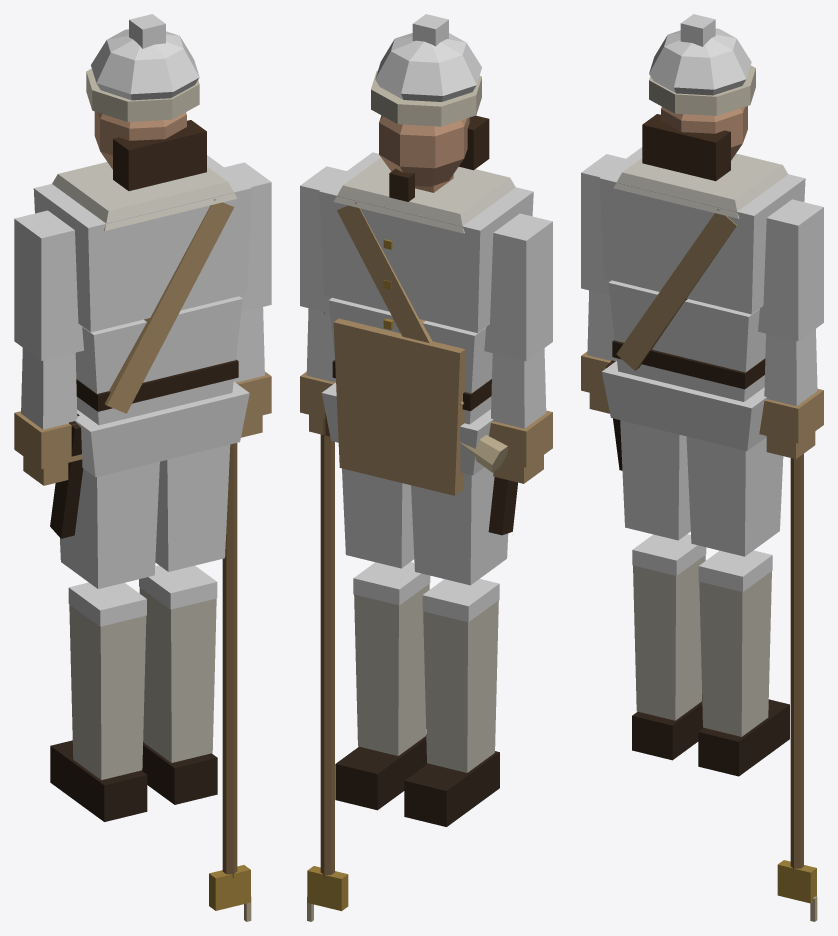
Rendered from soldier_em_gunner_lod0.glb.
3 renders of one model, left to right at view 1: azimuth 30°, elevation 25°; view 2: azimuth 150°, elevation 25°; view 3: azimuth 330°, elevation 25°, orthographic. The views are drawn at different scales.
Visible parts, largest first — view 1: em_gunner_lod0_static; view 2: em_gunner_lod0_static; view 3: em_gunner_lod0_static.
Part boxes in pixels (x1,y1,x2,y2): em_gunner_lod0_static: (14,14,271,921); em_gunner_lod0_static: (300,14,552,921); em_gunner_lod0_static: (581,14,823,921).
Size of the model in its own units: 0.59 by 2.28 by 0.295.
